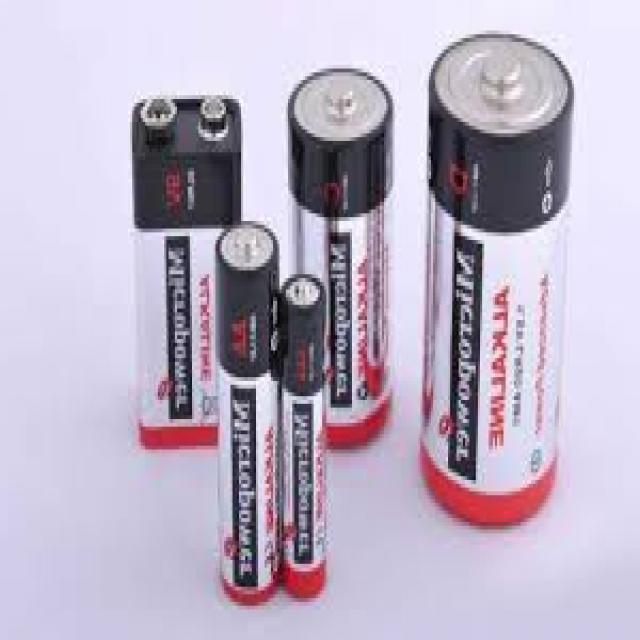battery: (422, 31, 572, 524), (289, 55, 397, 455), (133, 94, 242, 452), (220, 220, 282, 601), (276, 266, 331, 606)
